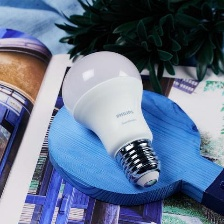light_bulb: (60, 46, 164, 193)
